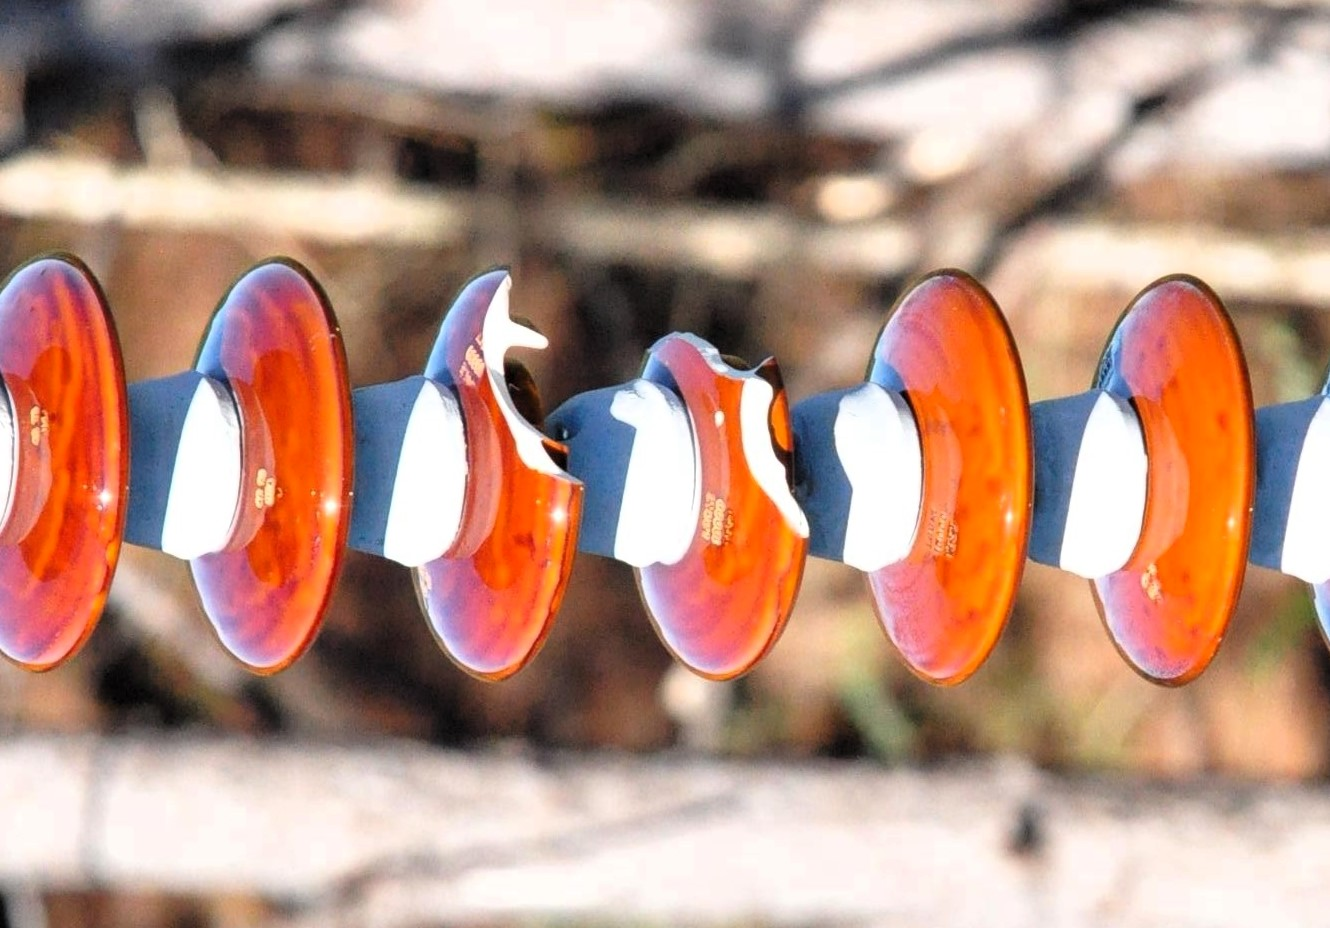insulator breakage: (415, 249, 586, 688), (627, 307, 820, 686)
